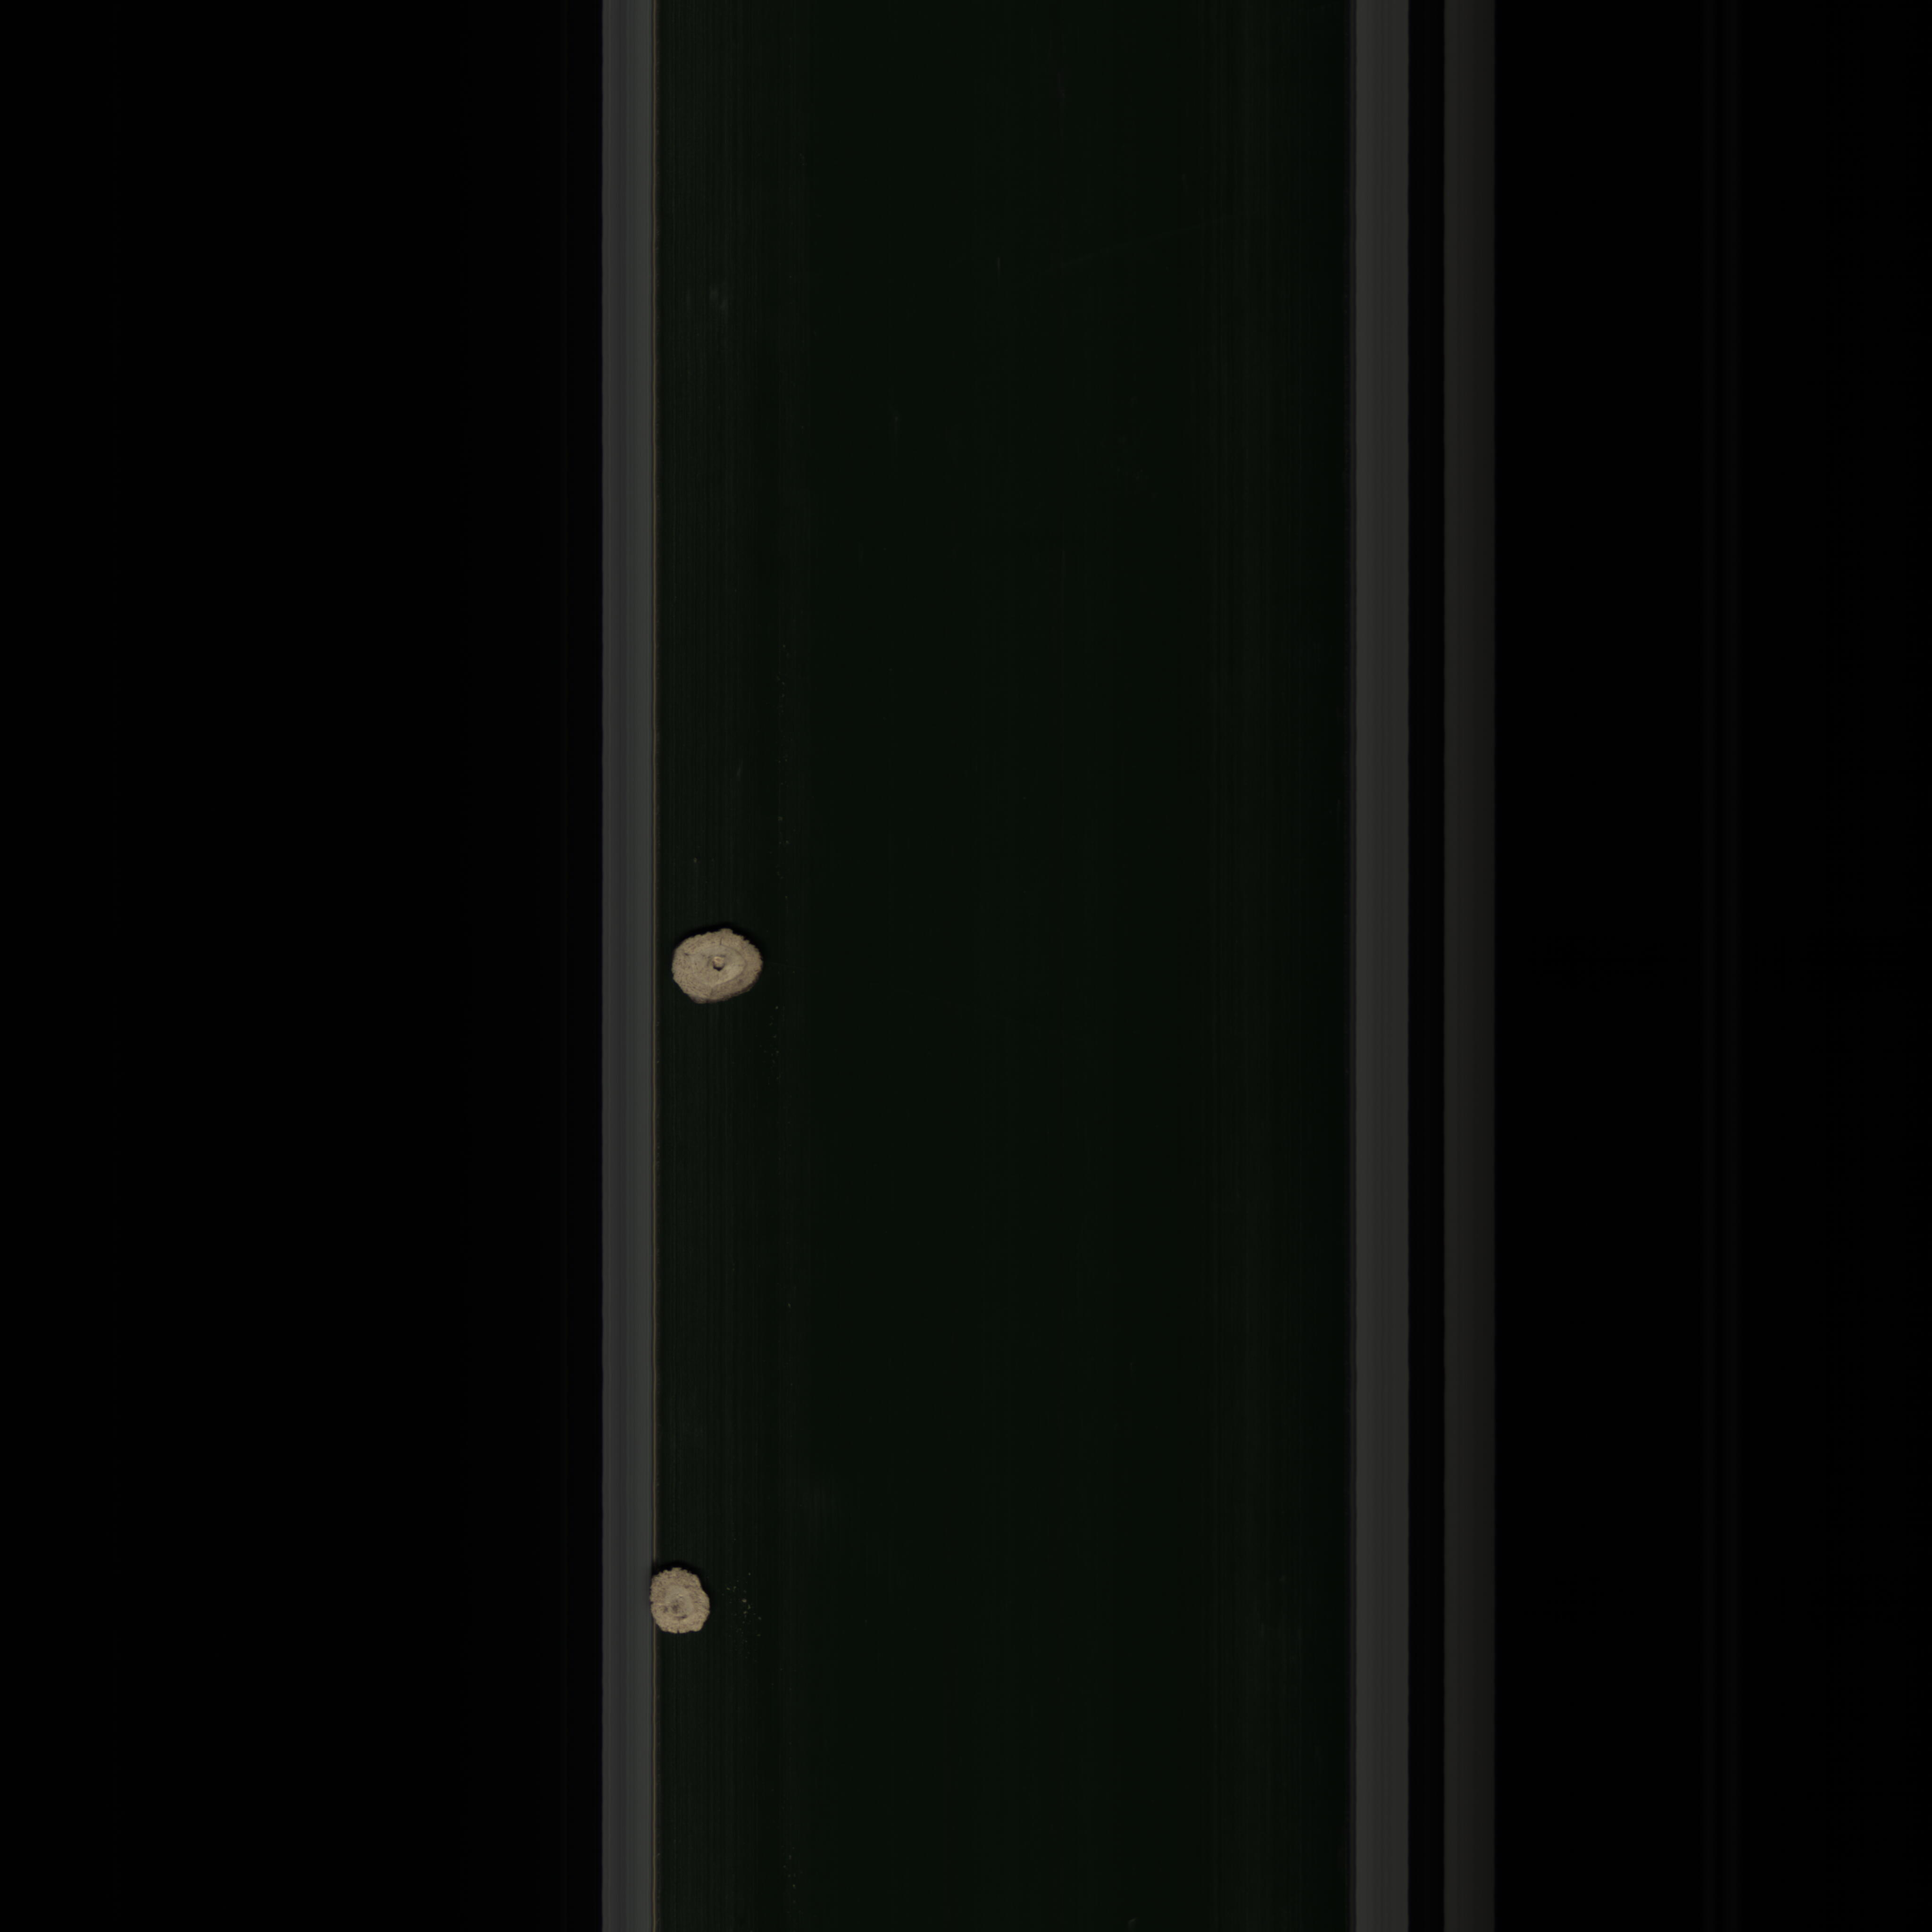hole: (663, 918, 775, 1010)
